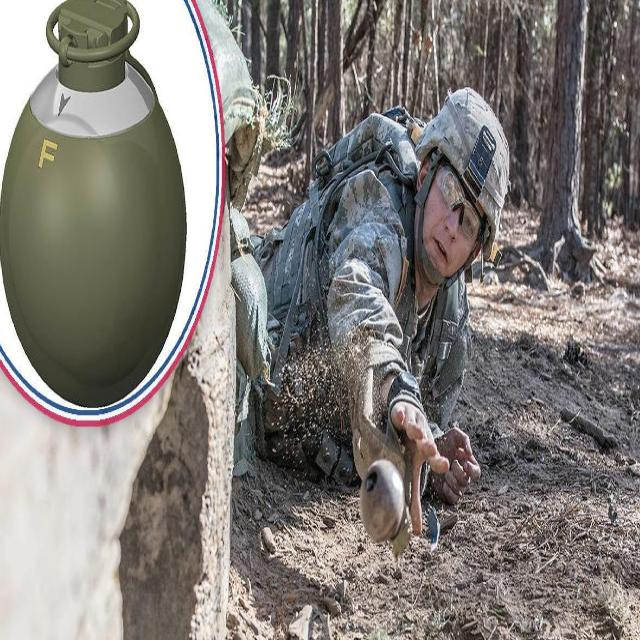grenade: (1, 1, 188, 410), (1, 1, 188, 407), (360, 459, 415, 562)
